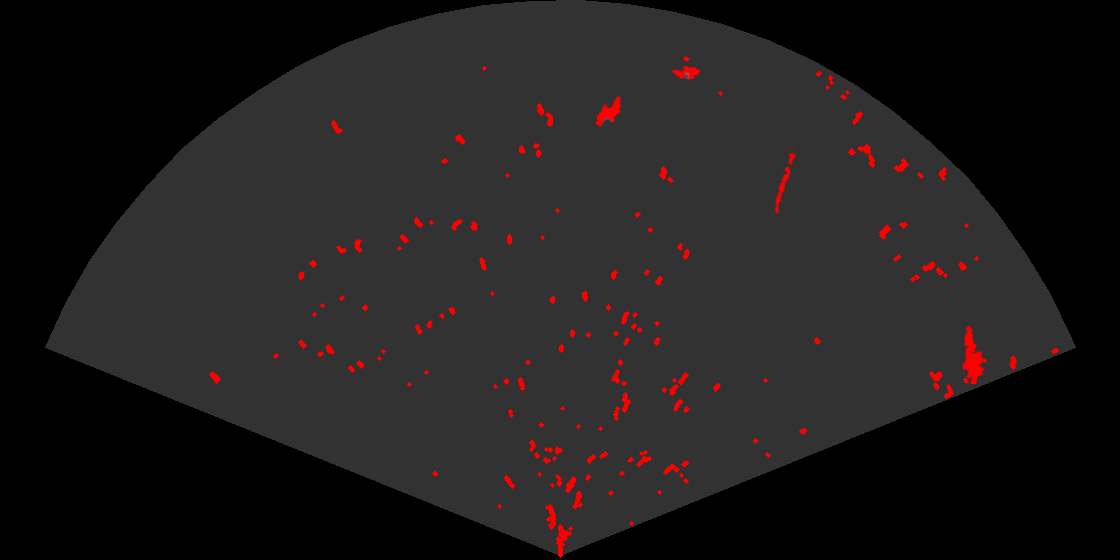AUV: (594, 94, 623, 129), (669, 64, 702, 82)
chain: (773, 148, 798, 215)
frogman: (961, 324, 989, 384)
